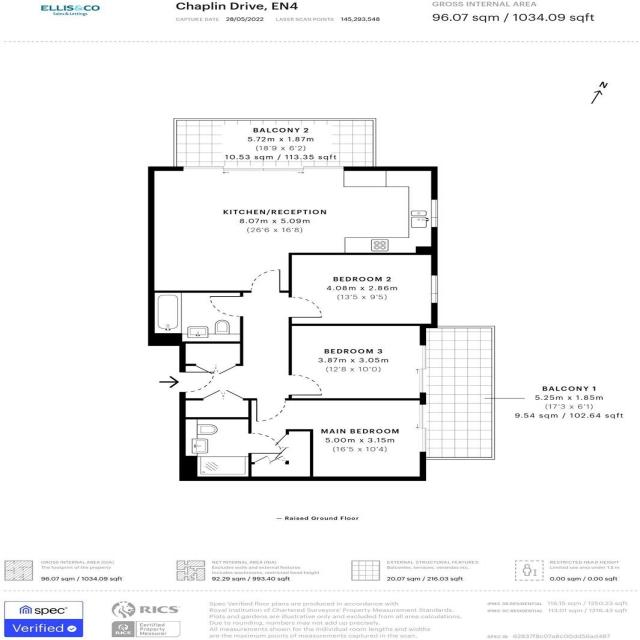DOOR: (248, 431, 285, 455), (288, 296, 323, 318), (288, 374, 323, 396), (255, 398, 287, 422), (250, 269, 281, 293), (209, 296, 244, 317)
ROOM: (147, 166, 439, 293), (248, 398, 427, 481), (288, 252, 438, 326), (288, 323, 427, 401)
SLIDING DOOR: (419, 402, 427, 453), (419, 344, 427, 394)
WINDOW: (431, 198, 438, 228), (431, 275, 438, 303)
